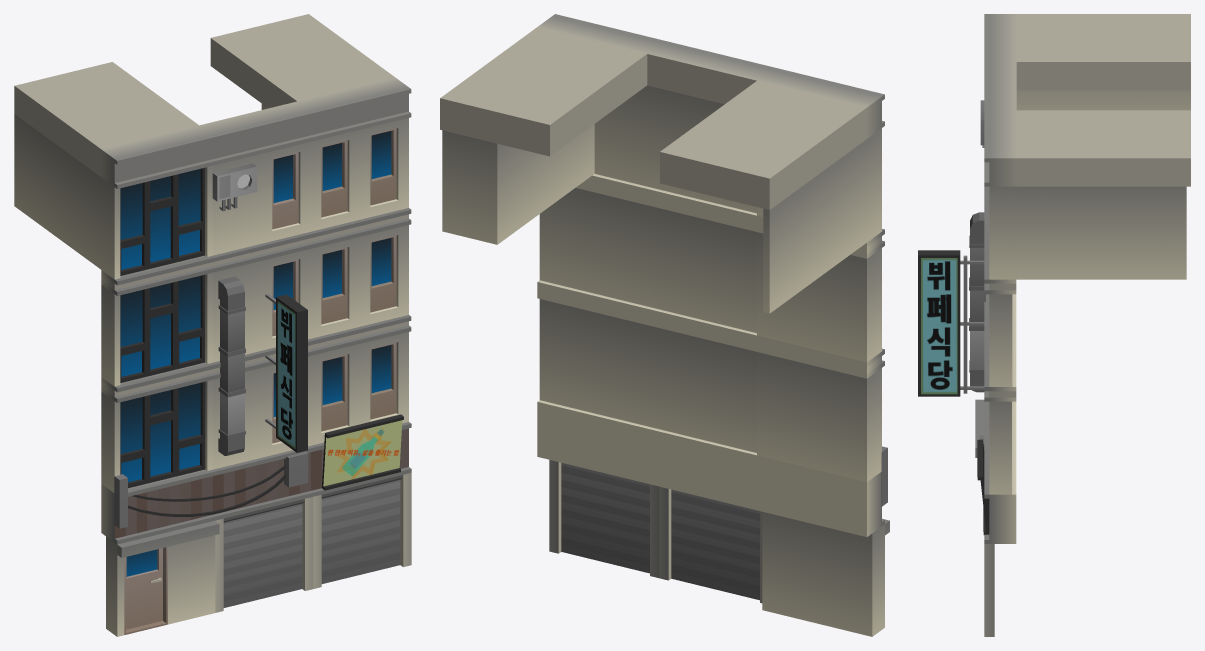
Rendered from B02_Facade_05_A.fbx.
3 renders of one model, left to right at view 1: azimuth 30°, elevation 25°; view 2: azimuth 150°, elevation 25°; view 3: azimuth 270°, elevation 25°, orthographic. The views are drawn at different scales.
Parts seen in each view (by area): view 1: B02_Facade_05_A; view 2: B02_Facade_05_A; view 3: B02_Facade_05_A.
Boxes of the visible parts, x1,y1,x2,y2 form: B02_Facade_05_A: (14, 14, 411, 636); B02_Facade_05_A: (440, 14, 889, 636); B02_Facade_05_A: (918, 14, 1190, 636).
Size of the model in its own units: 1501 by 2319 by 1198.
